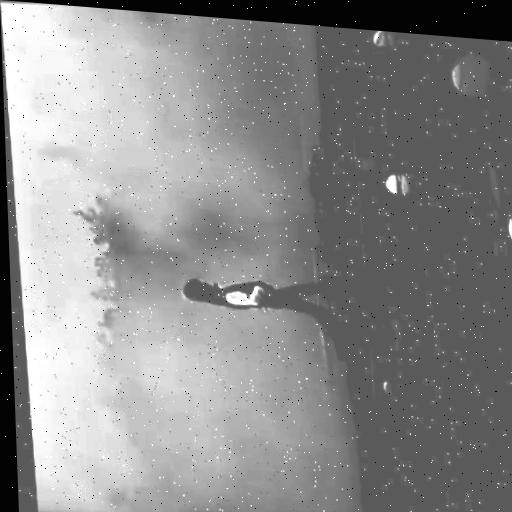balloon: (449, 59, 498, 107), (368, 30, 405, 61), (383, 175, 415, 199), (499, 210, 512, 253), (378, 380, 397, 403), (360, 159, 379, 177)
